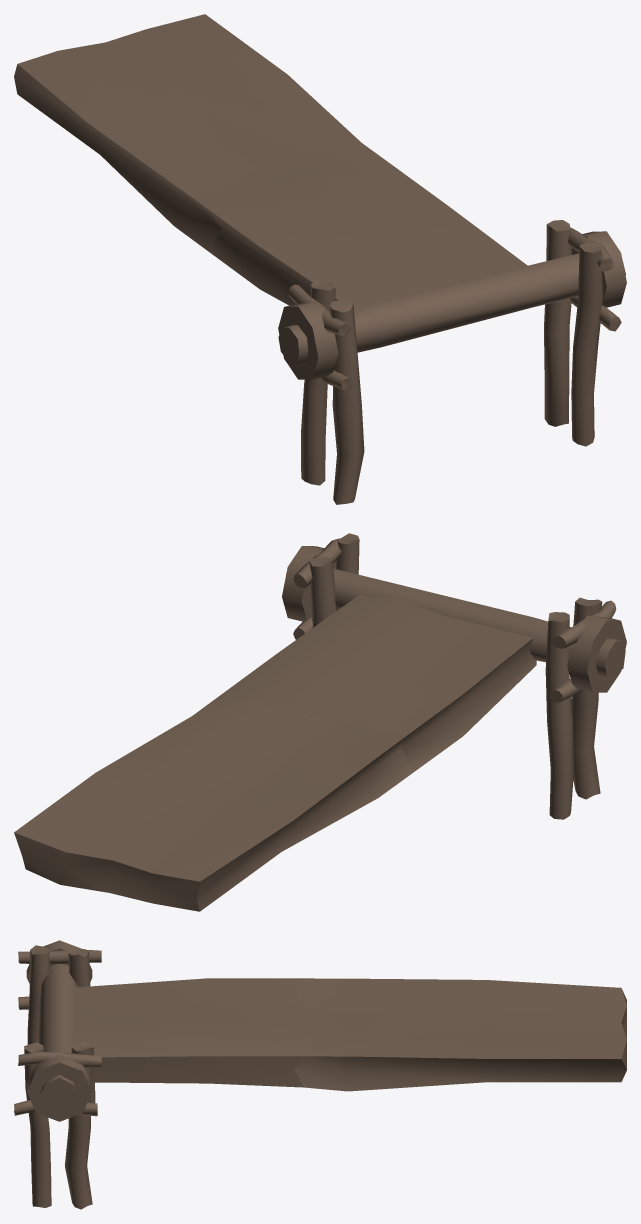
File: PuenteTablon 1.fbx
3 views of the same model, one above another, from view 1: azimuth 30°, elevation 25°; view 2: azimuth 150°, elevation 25°; view 3: azimuth 270°, elevation 25° (orthographic). The views are drawn at different scales.
Visible parts, largest first — view 1: Tabla_1, Tabla_2, EstructuraTablon; view 2: Tabla_2, Tabla_1, EstructuraTablon; view 3: Tabla_2, Tabla_1, EstructuraTablon.
Boxes of the visible parts, bbox=[...] form: Tabla_1: bbox=[203, 163, 626, 379]; Tabla_2: bbox=[14, 14, 388, 251]; EstructuraTablon: bbox=[287, 220, 621, 504]; Tabla_2: bbox=[14, 696, 411, 911]; Tabla_1: bbox=[220, 546, 626, 773]; EstructuraTablon: bbox=[293, 533, 616, 819]; Tabla_2: bbox=[295, 978, 626, 1091]; Tabla_1: bbox=[26, 940, 306, 1121]; EstructuraTablon: bbox=[14, 945, 101, 1209].
Bounding box in the file's own units: 4.18 × 2.45 × 8.43.
